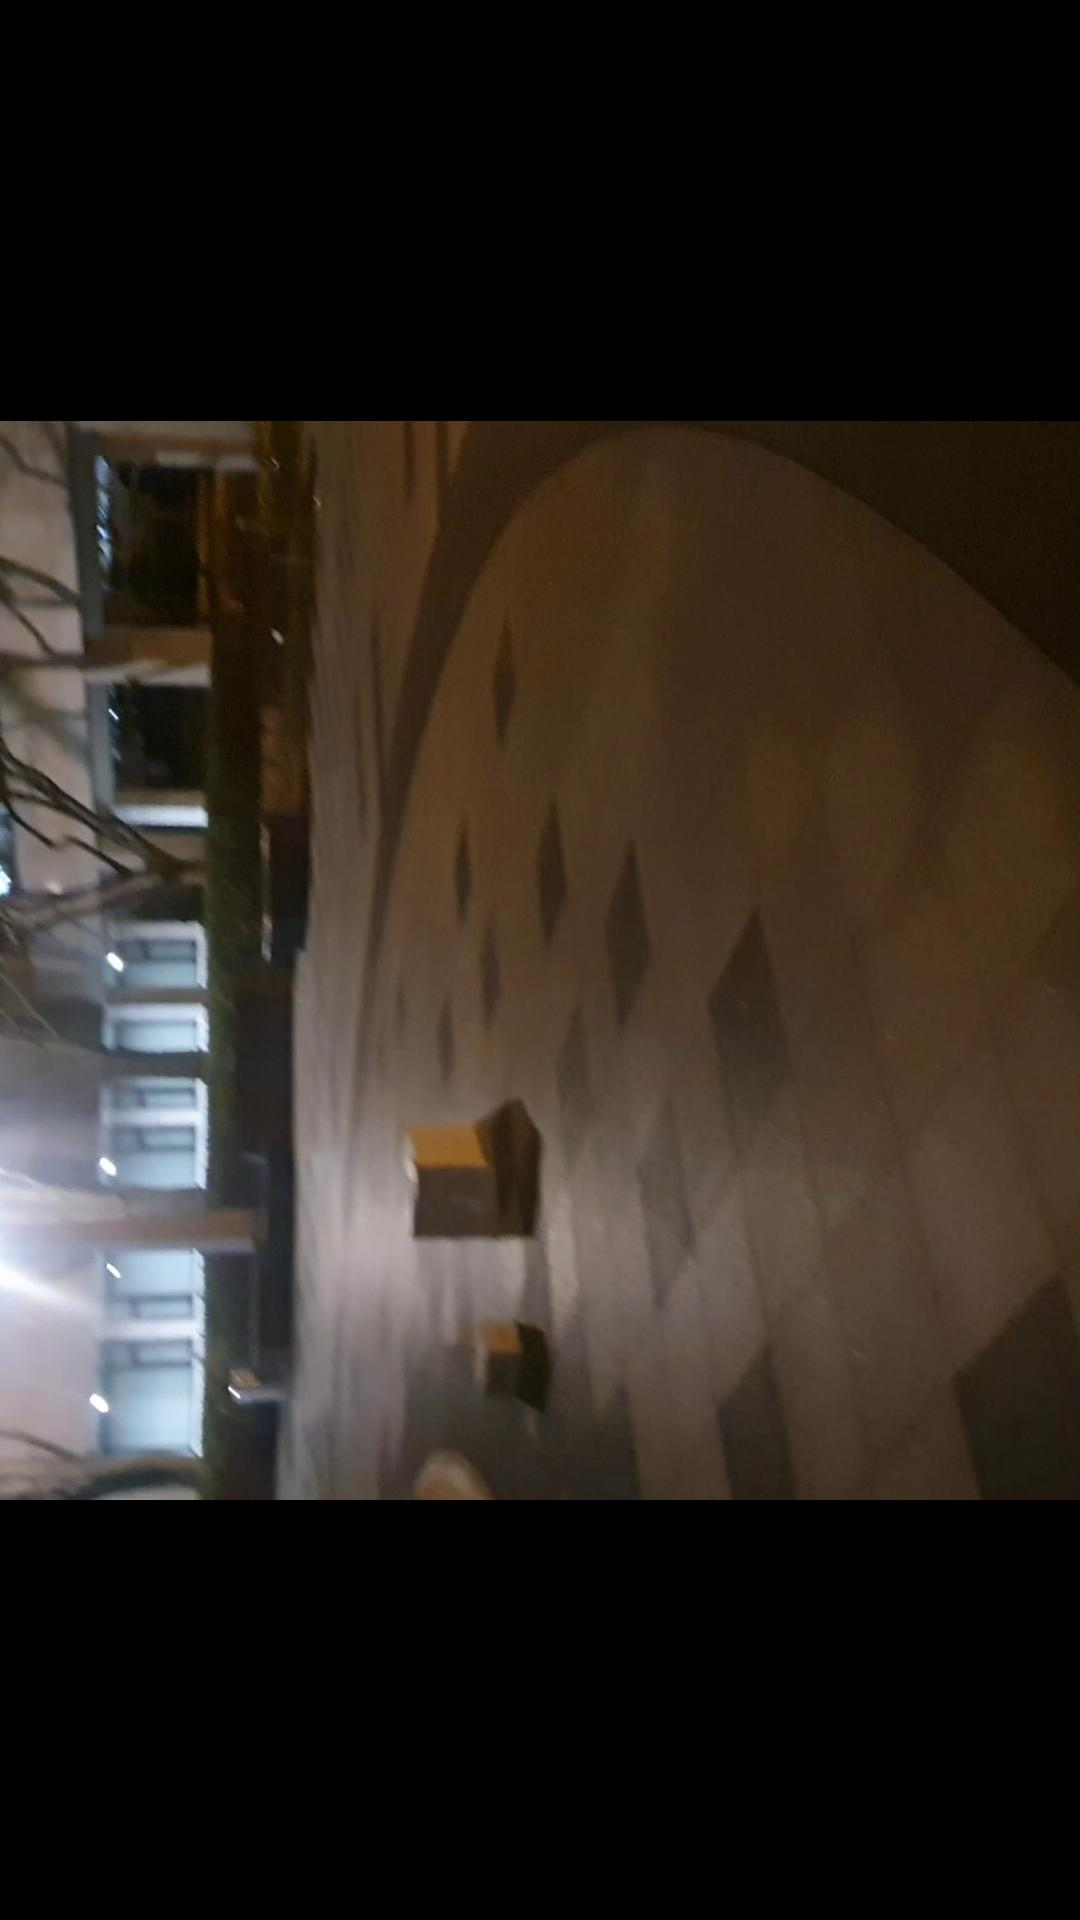Box: (393, 1124, 513, 1242), (468, 1312, 527, 1404)
